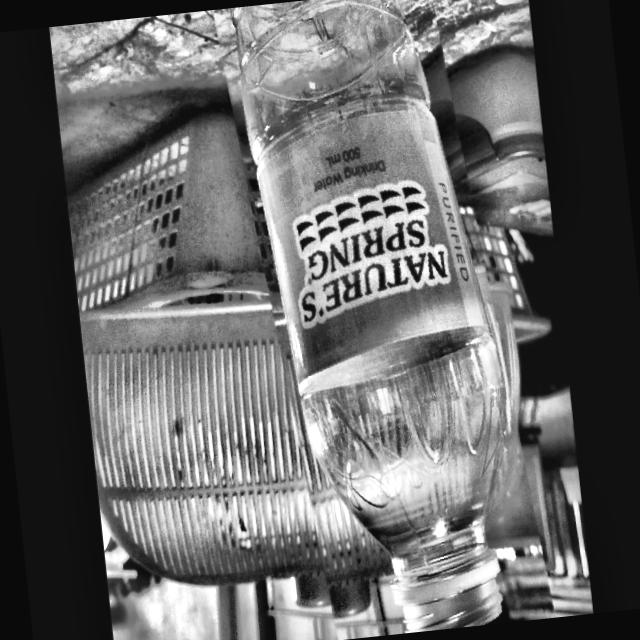Plastic-Bottle: (220, 0, 538, 640)
